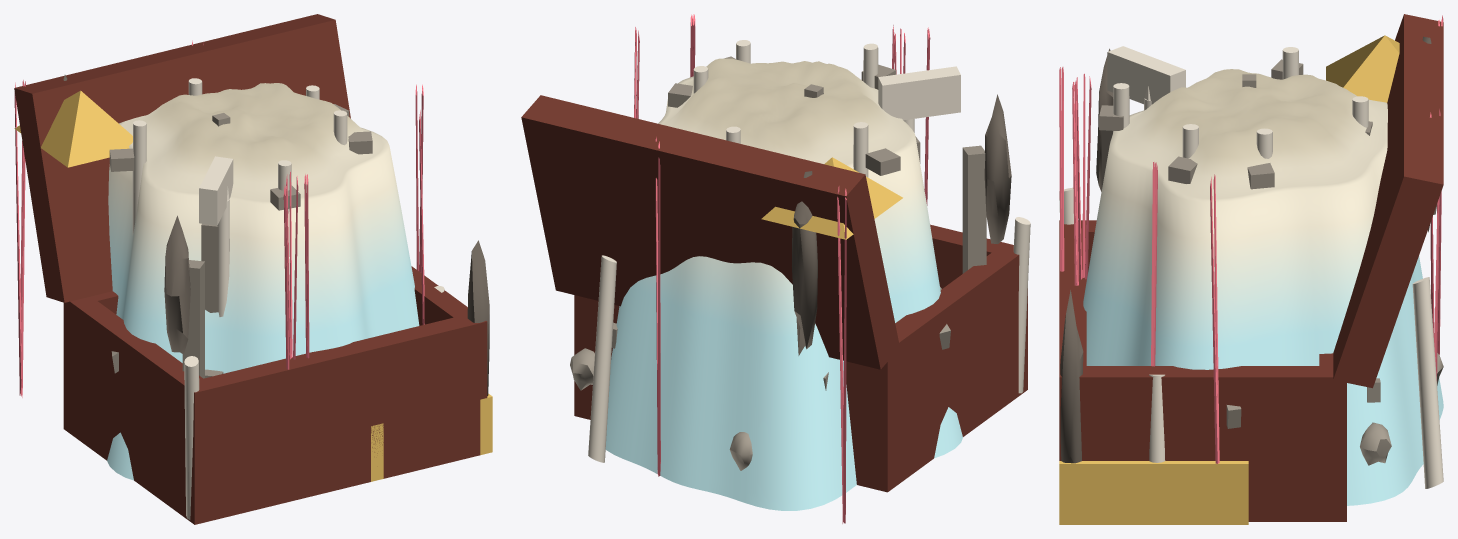
Rendered from ile-engloutie.glb.
3 renders of one model, left to right at view 1: azimuth 30°, elevation 25°; view 2: azimuth 150°, elevation 25°; view 3: azimuth 270°, elevation 25°, orthographic. The views are drawn at different scales.
Parts seen in each view (by area): view 1: engloutie_decor, engloutie_terrain; view 2: engloutie_decor, engloutie_terrain; view 3: engloutie_decor, engloutie_terrain.
Boxes of the visible parts, <box> form: engloutie_decor: <box>14,14,492,524</box>; engloutie_terrain: <box>107,83,419,480</box>; engloutie_decor: <box>521,14,1030,523</box>; engloutie_terrain: <box>605,58,962,510</box>; engloutie_decor: <box>1059,14,1443,524</box>; engloutie_terrain: <box>1083,69,1443,505</box>.
Bounding box in the file's own units: 2 × 2 × 2.
